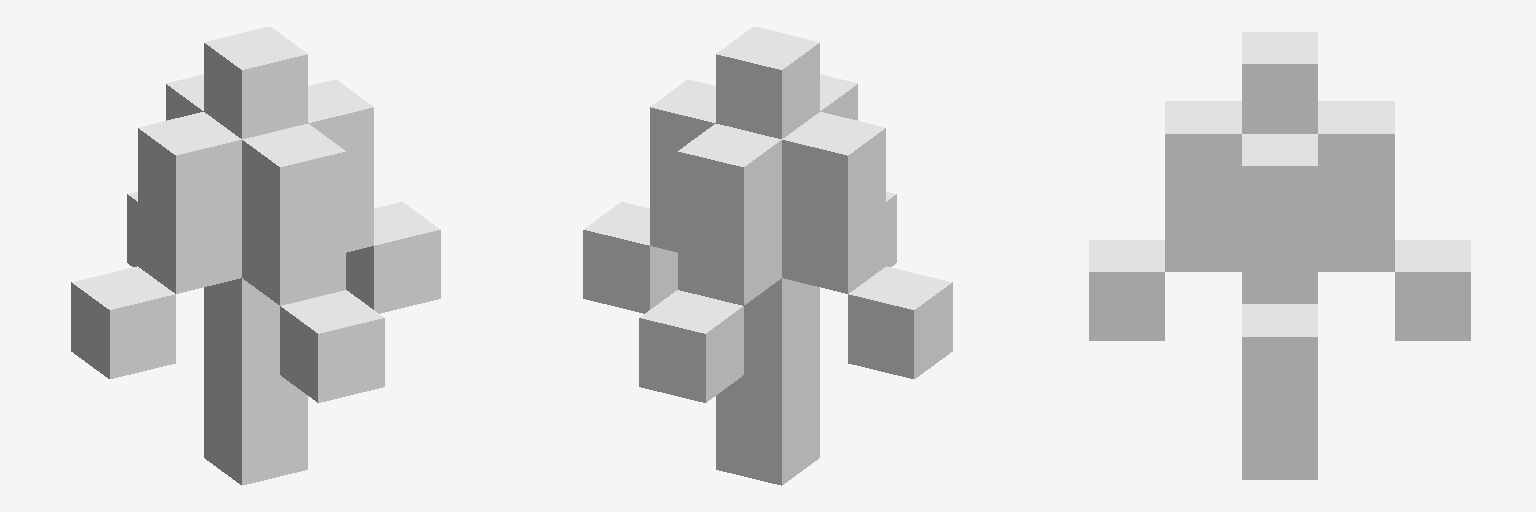
The model's file is droopy_purple.obj.
The picture shows the model from 3 angles: view 1: azimuth 30°, elevation 25°; view 2: azimuth 150°, elevation 25°; view 3: azimuth 270°, elevation 25°; orthographic projection.
Parts seen in each view (by area): view 1: object 1; view 2: object 1; view 3: object 1.
Part boxes in pixels (bbox=[...]): object 1: bbox=[71, 26, 440, 485]; object 1: bbox=[583, 26, 952, 485]; object 1: bbox=[1089, 32, 1470, 479].
Size of the model in its own units: 0.5 by 0.6 by 0.5.